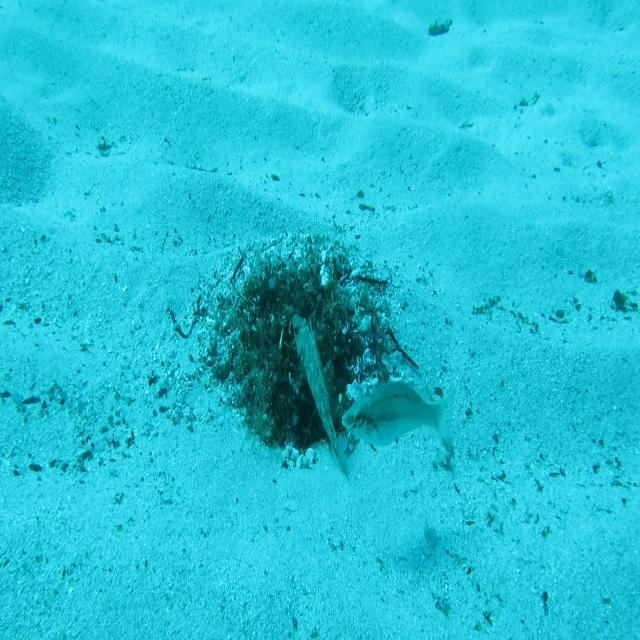FAN: (289, 312, 351, 483)
core_nest: (271, 284, 315, 319)
female: (340, 374, 457, 459)
nest: (188, 224, 410, 476)
vegetation: (424, 18, 454, 40)
